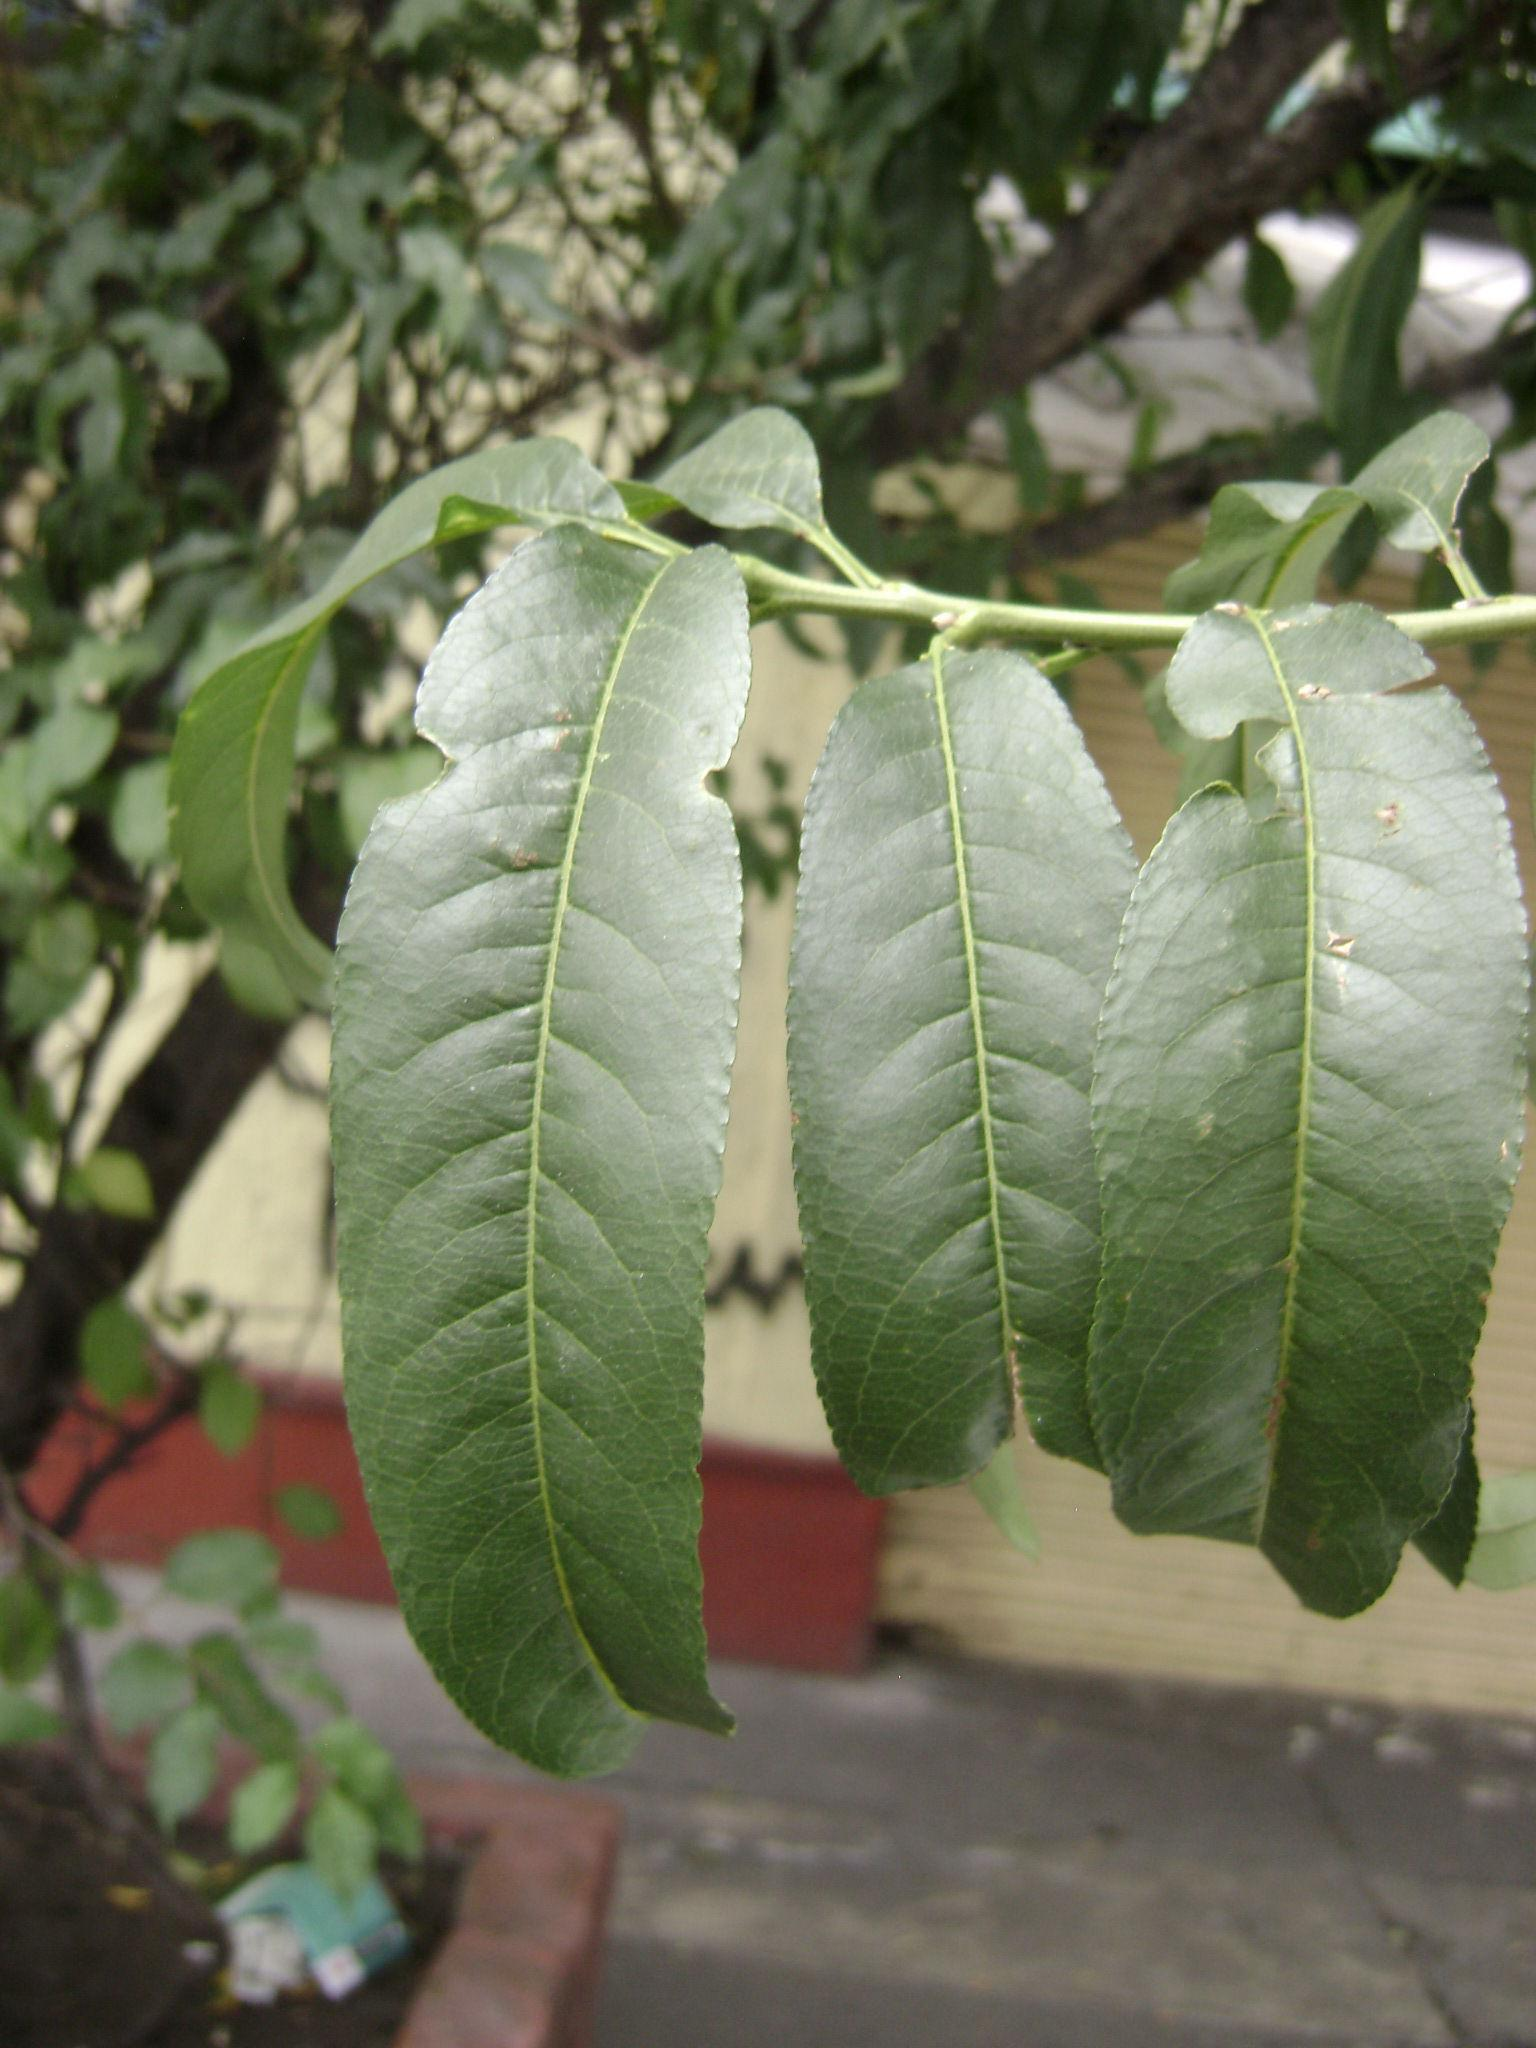Peach leaf: (311, 780, 733, 1701), (791, 627, 1133, 1348)
